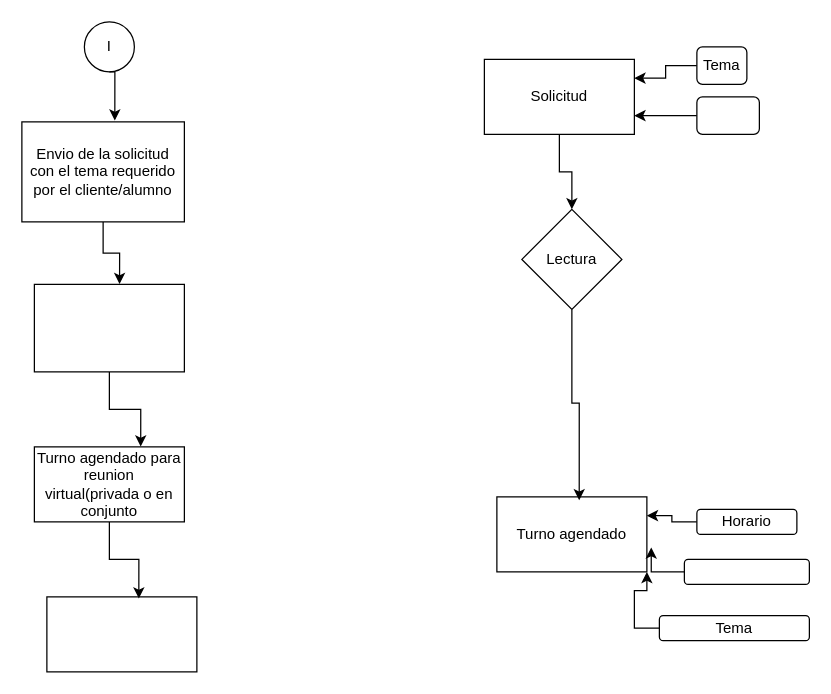
This 831x694 diagram has some shape labels left out. The shapes that lost their labels are listed below. From the top down, each one's centre as x and y in pixels, then its label:
point 727,115: Urgencia
point 108,327: Filtro por tema seleccionado automaticamente y envio de apunte del tema
point 746,571: Cantidad_Alumnos
point 121,634: Envio de datos al docente destinado
